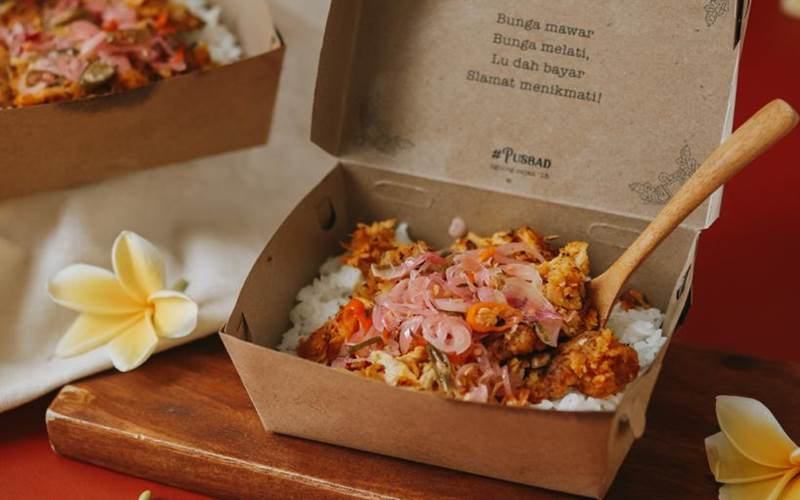ayam_geprek: (350, 219, 623, 403)
